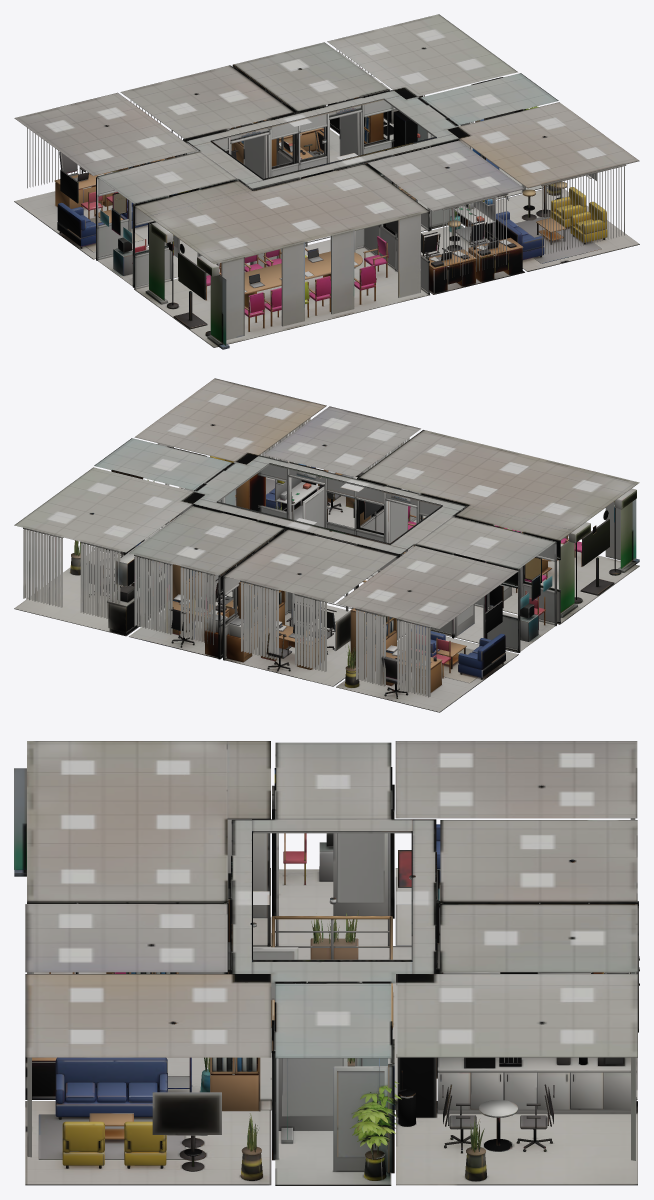
Rendered from world_in1w.glb.
3 renders of one model, top to bottom at view 1: azimuth 30°, elevation 25°; view 2: azimuth 150°, elevation 25°; view 3: azimuth 270°, elevation 25°, orthographic. The views are drawn at different scales.
Parts seen in each view (by area): view 1: W_in1w; view 2: W_in1w; view 3: W_in1w.
Part boxes in pixels (box(x1,y1,x2,y2)): W_in1w: box(14, 14, 639, 349); W_in1w: box(14, 378, 639, 712); W_in1w: box(14, 741, 639, 1185).
Bounding box in the file's own units: 13.89 × 2.55 × 11.17.
Materials: 1 (1 with a texture image).
